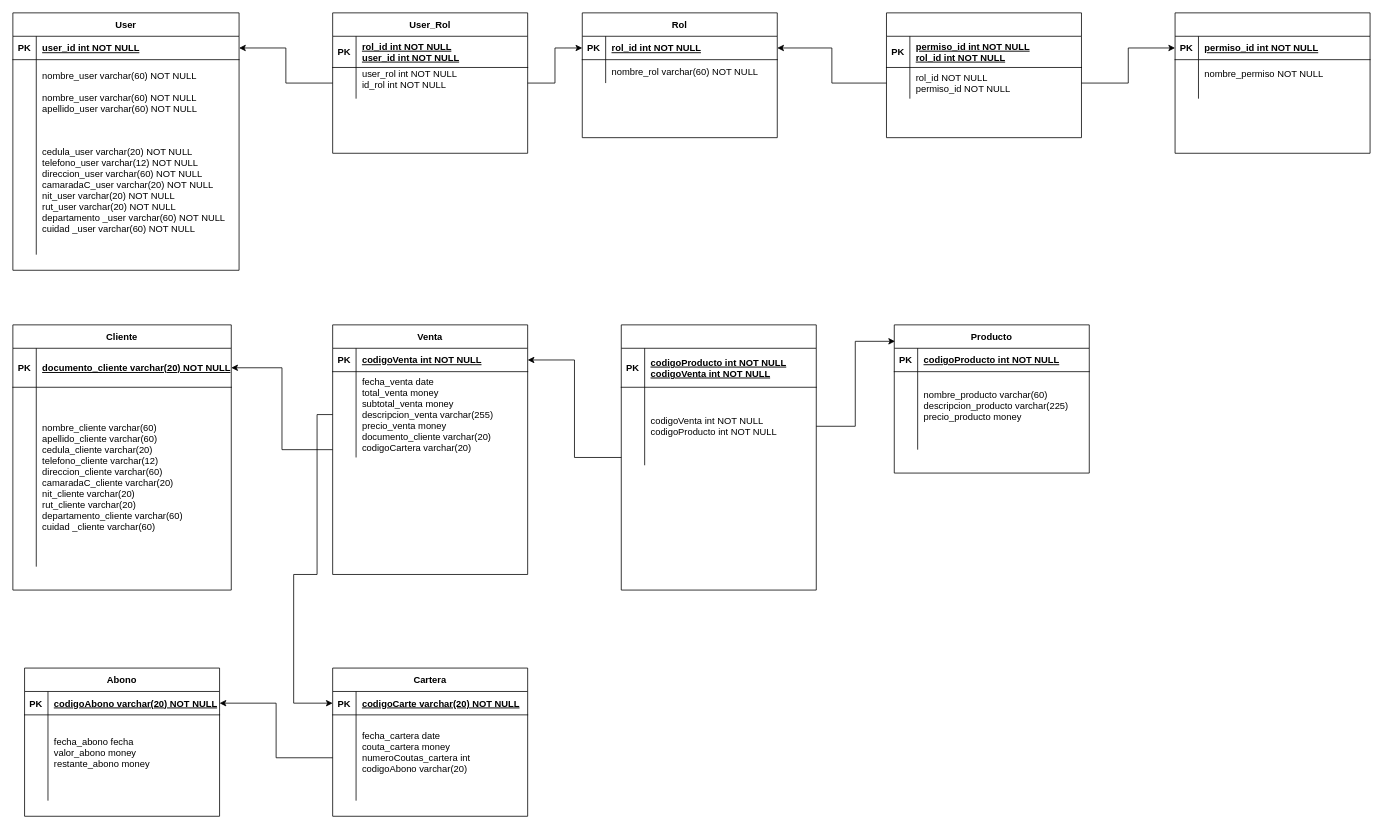
The diagram is 1383 pixels wide and 829 high, and some of its shapes have lost their labels. Here are the shapes that lost their labels. From the top down, the box of each, then its label:
(886, 12, 1081, 138): Rol_Permisos
(1174, 12, 1370, 153): Permisos
(620, 324, 816, 590): Venta_Producto
